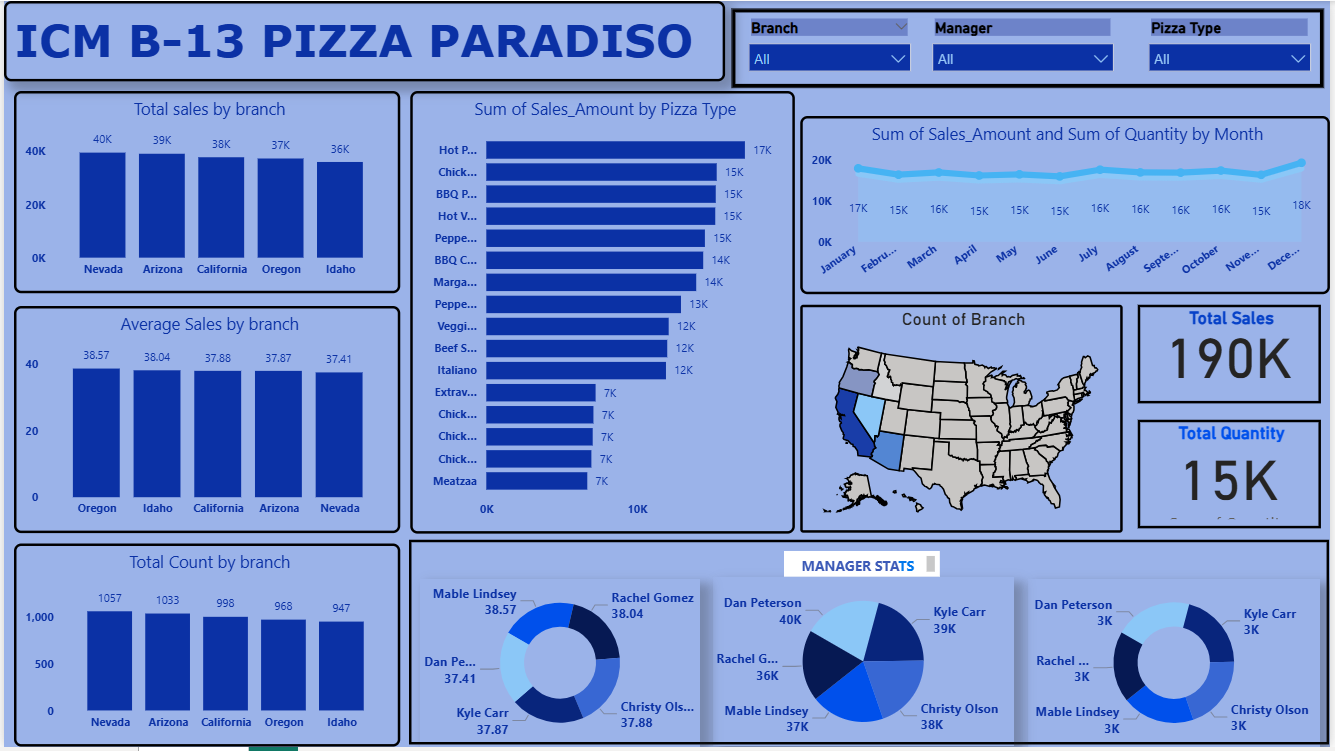

The page's visual inventory and layout, read from the dashboard file:
{"tool":"powerbi","page":{"name":"ICM B 13","canvas":[1280,720],"ordinal":0},"visuals":[{"type":"textbox","box":[0,0,696.1,77.2],"z":0},{"type":"clusteredColumnChart","title":"Total sales by branch","fields":{"Category":["Pizza Paradiso.Branch"],"Y":["Pizza Paradiso.Sales_Amount"]},"box":[9.7,86.9,372.8,195.4],"z":1000},{"type":"clusteredBarChart","fields":{"Category":["Pizza Paradiso.Pizza Type"],"Y":["Pizza Paradiso.Sales_Amount"]},"box":[392.1,86.9,371.6,427.1],"z":2000},{"type":"shape","box":[391.5,520.3,888.3,197.4],"z":3000},{"type":"clusteredColumnChart","title":"Total Count by branch","fields":{"Category":["Pizza Paradiso.Branch"],"Y":["Pizza Paradiso.Branch"]},"box":[10,523.6,373.1,195.7],"z":4000},{"type":"clusteredColumnChart","title":"Average Sales by branch","fields":{"Category":["Pizza Paradiso.Branch"],"Y":["Pizza Paradiso.Sales_Amount"]},"box":[10,294.4,373.1,219.1],"z":5000},{"type":"pieChart","title":"Sales_Amount by Manager","fields":{"Category":["Pizza Paradiso.Manager"],"Y":["Pizza Paradiso.Sales_Amount"]},"box":[684.1,556.2,290.8,162.9],"z":6000},{"type":"donutChart","title":"Sales_Amount by Manager","fields":{"Category":["Pizza Paradiso.Manager"],"Y":["Pizza Paradiso.Sales_Amount"]},"box":[401.7,557.4,270.2,162.9],"z":7000},{"type":"donutChart","title":"Sales_Amount by Manager","fields":{"Category":["Pizza Paradiso.Manager"],"Y":["Pizza Paradiso.Quantity"]},"box":[988.1,557.4,282.3,162.9],"z":8000},{"type":"textbox","box":[752.8,530.3,150.6,25.1],"z":9000},{"type":"slicer","fields":{"Values":["Pizza Paradiso.Branch"]},"box":[707.6,11.7,177.3,65.2],"z":10000},{"type":"shape","box":[702.6,6.7,572.1,77],"z":11000},{"type":"slicer","fields":{"Values":["Pizza Paradiso.Pizza Type"]},"box":[1094.1,11.7,177.3,65.2],"z":12000},{"type":"slicer","fields":{"Values":["Pizza Paradiso.Manager"]},"box":[885,11.7,195.7,65.2],"z":13000},{"type":"shapeMap","title":"Count of Branch ","fields":{"Category":["Pizza Paradiso.Branch"],"Value":["Pizza Paradiso.Branch"]},"box":[768.8,293.8,310.9,220.3],"z":14000},{"type":"stackedAreaChart","fields":{"Y":["Pizza Paradiso.Sales_Amount","Pizza Paradiso.Quantity"],"Category":["Pizza Paradiso.Date.Variation.Date Hierarchy.Month"]},"box":[768.8,110.9,510.9,171.9],"z":15000},{"type":"card","title":"Total Sales","fields":{"Values":["Pizza Paradiso.Sales_Amount"]},"box":[1093.8,293.8,176.6,95.3],"z":16000},{"type":"card","title":"Total Quantity","fields":{"Values":["Pizza Paradiso.Quantity"]},"box":[1093.8,404.7,176.6,104.7],"z":17000}]}

Visuals, with their boxes in screenshot pixels (x1, y1, x2, y2), scaled from the page's 1280x720 canvas onto the 1335x751 screenshot:
textbox: 0, 0, 726, 81
"Total sales by branch" clusteredColumnChart: 10, 91, 399, 294
clusteredBarChart - Pizza Paradiso.Pizza Type x Pizza Paradiso.Sales_Amount: 409, 91, 797, 536
shape: 408, 543, 1334, 749
"Total Count by branch" clusteredColumnChart: 10, 546, 400, 750
"Average Sales by branch" clusteredColumnChart: 10, 307, 400, 536
"Sales_Amount by Manager" pieChart: 713, 580, 1017, 750
"Sales_Amount by Manager" donutChart: 419, 581, 701, 750
"Sales_Amount by Manager" donutChart: 1031, 581, 1325, 750
textbox: 785, 553, 942, 579
slicer - Pizza Paradiso.Branch: 738, 12, 923, 80
shape: 733, 7, 1329, 87
slicer - Pizza Paradiso.Pizza Type: 1141, 12, 1326, 80
slicer - Pizza Paradiso.Manager: 923, 12, 1127, 80
"Count of Branch " shapeMap: 802, 306, 1126, 536
stackedAreaChart - Pizza Paradiso.Sales_Amount x Pizza Paradiso.Quantity: 802, 116, 1334, 295
"Total Sales" card: 1141, 306, 1325, 406
"Total Quantity" card: 1141, 422, 1325, 531
